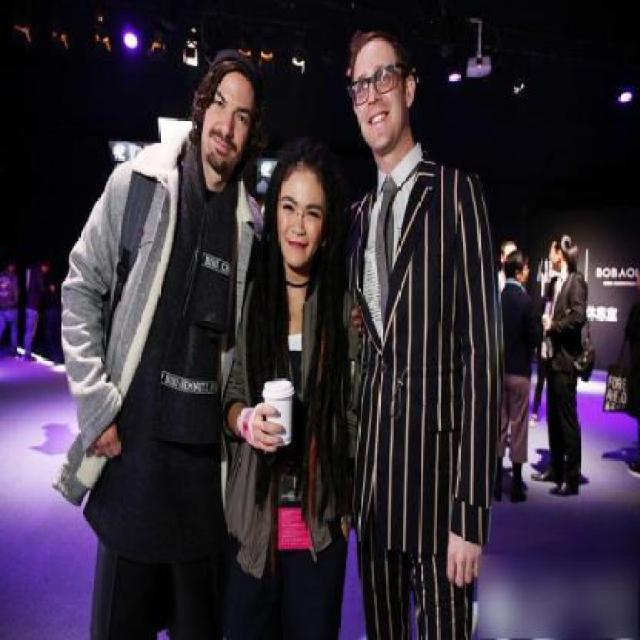Person: (317, 17, 518, 638), (62, 44, 260, 639), (236, 144, 360, 640)
